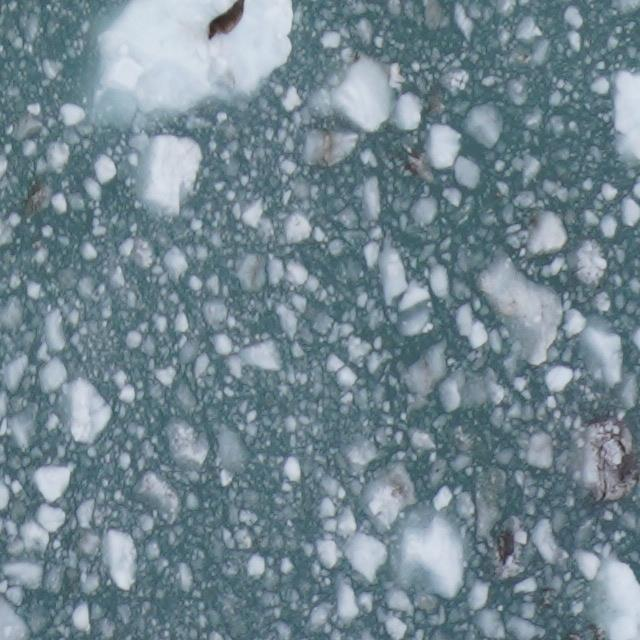seal: (204, 0, 250, 42)
